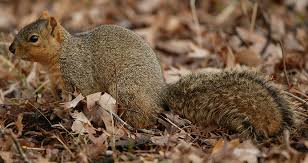squirrel: (9, 7, 291, 136)
